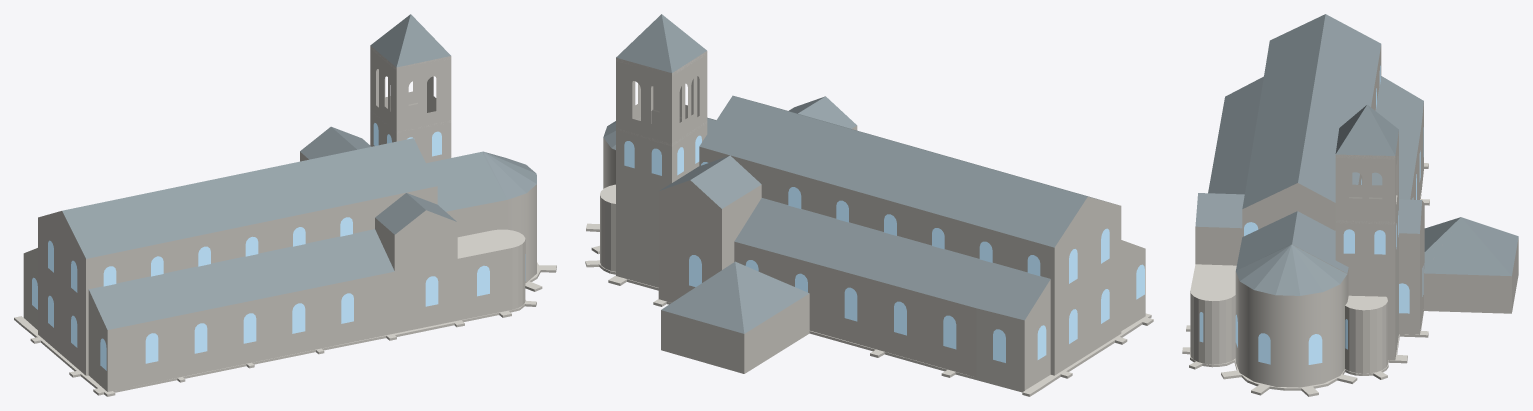
3 renders of one model, left to right at view 1: azimuth 30°, elevation 25°; view 2: azimuth 150°, elevation 25°; view 3: azimuth 270°, elevation 25°, orthographic. The views are drawn at different scales.
Visible parts, largest first — view 1: stone, roof, window; view 2: stone, roof, window; view 3: roof, stone, window.
Boxes of the visible parts, x1=… form: stone: x1=14, y1=46, x2=556, y2=396; roof: x1=62, y1=14, x2=536, y2=329; window: x1=32, y1=123, x2=525, y2=370; stone: x1=585, y1=51, x2=1153, y2=396; roof: x1=603, y1=14, x2=1108, y2=333; window: x1=624, y1=135, x2=1144, y2=362; roof: x1=1195, y1=14, x2=1518, y2=295; stone: x1=1182, y1=45, x2=1518, y2=396; window: x1=1199, y1=65, x2=1423, y2=364.
Size of the model in its own units: 54.58 by 26 by 32.48.
